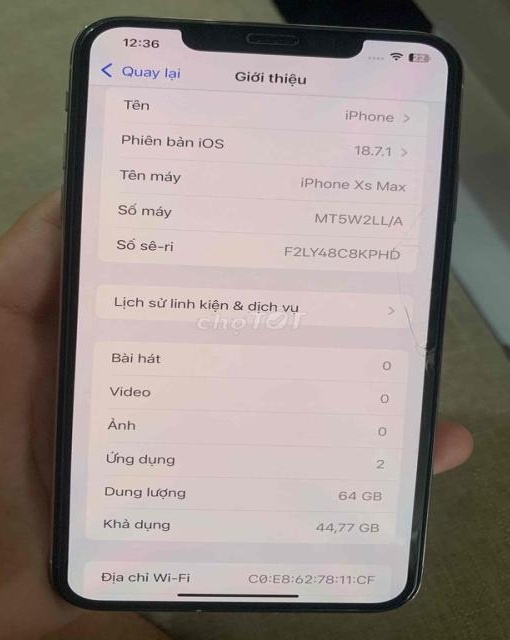physical_damage: (382, 183, 437, 252), (397, 327, 447, 382), (366, 234, 419, 283), (394, 280, 428, 329)
